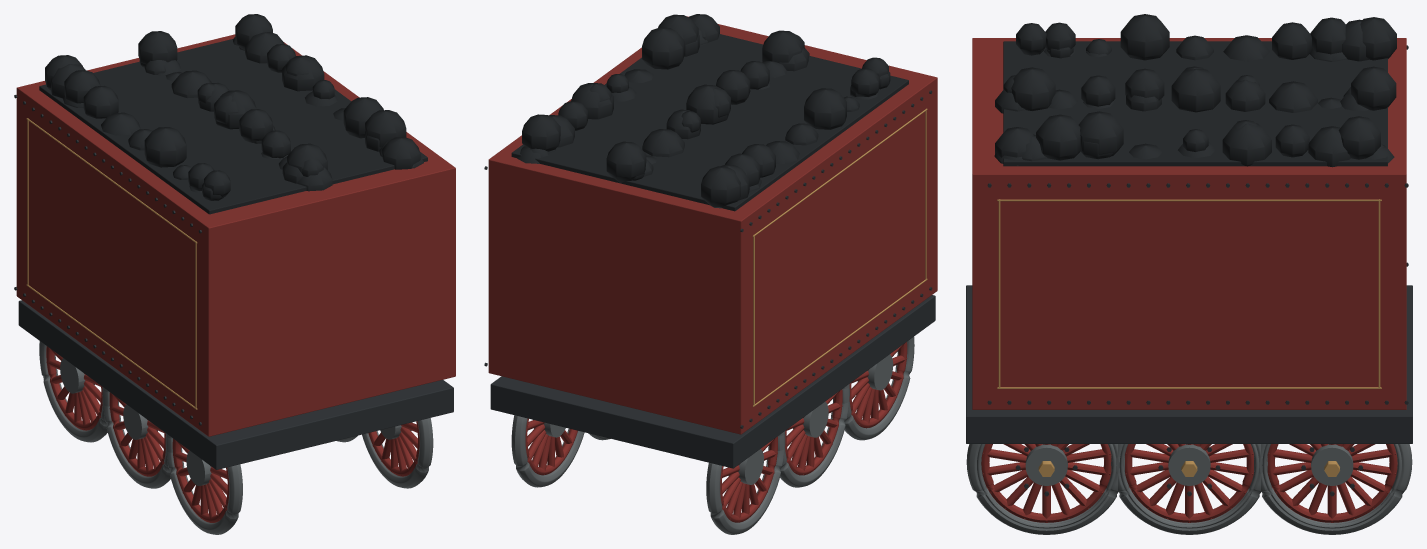
The model's file is tender.glb.
The picture shows the model from 3 angles, left to right: view 1: azimuth 30°, elevation 25°; view 2: azimuth 150°, elevation 25°; view 3: azimuth 270°, elevation 25°; orthographic projection. The views are drawn at different scales.
Visible parts, largest first — view 1: tender_scarlet.006, tender_soot.006, tender_black.006, tender_steel.006, tender_brass.006; view 2: tender_scarlet.006, tender_soot.006, tender_black.006, tender_steel.006, tender_brass.006; view 3: tender_scarlet.006, tender_soot.006, tender_black.006, tender_steel.006, tender_brass.006.
Boxes of the visible parts, x1,y1,x2,y2 form: tender_scarlet.006: (16,34,455,522); tender_soot.006: (39,14,427,214); tender_black.006: (14,95,453,469); tender_steel.006: (39,341,433,534); tender_brass.006: (26,118,197,409); tender_scarlet.006: (488,16,937,522); tender_soot.006: (511,14,908,211); tender_black.006: (484,90,935,468); tender_steel.006: (511,337,914,534); tender_brass.006: (752,108,927,406); tender_scarlet.006: (972,38,1406,522); tender_soot.006: (994,14,1396,167); tender_black.006: (966,45,1412,496); tender_steel.006: (966,444,1412,534); tender_brass.006: (997,199,1381,476).
Size of the model in its own units: 2.65 by 3.71 by 3.6.
